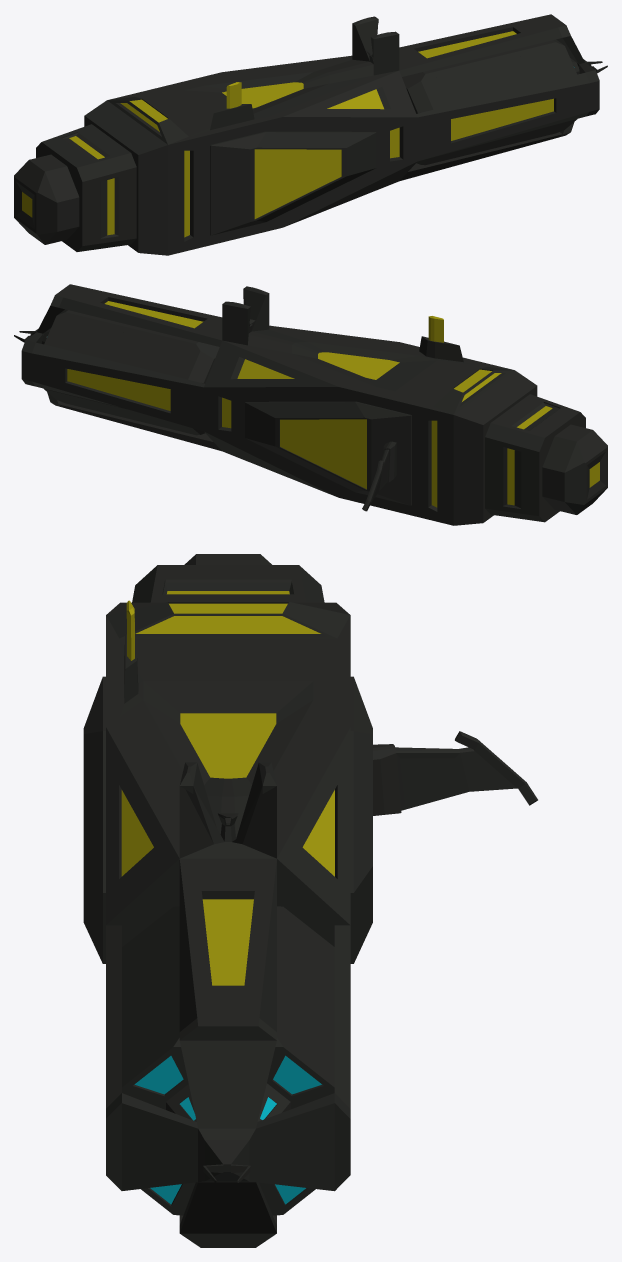
File: SG-78_full.fbx
The picture shows the model from 3 angles, top to bottom: view 1: azimuth 30°, elevation 25°; view 2: azimuth 150°, elevation 25°; view 3: azimuth 270°, elevation 25°; orthographic projection. The views are drawn at different scales.
Visible parts, largest first — view 1: Cube, Cube.001; view 2: Cube, Cube.001; view 3: Cube, Cube.001.
Boxes of the visible parts, x1=… form: Cube: x1=14, y1=14, x2=607, y2=255; Cube.001: x1=402, y1=39, x2=579, y2=165; Cube: x1=14, y1=284, x2=607, y2=525; Cube.001: x1=42, y1=309, x2=219, y2=435; Cube: x1=83, y1=554, x2=537, y2=1247; Cube.001: x1=122, y1=906, x2=334, y2=1215.
Bounding box in the file's own units: 1096 × 272 × 372.
